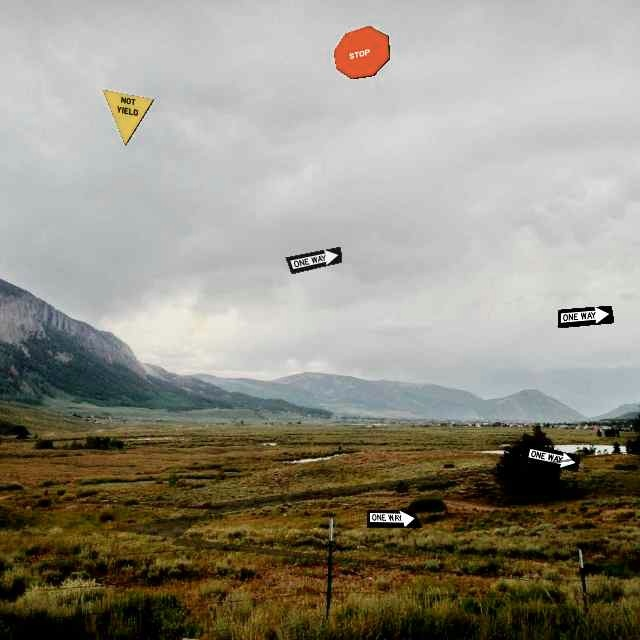NOT_YIELD: (102, 89, 154, 146)
ONE_WAY_ right: (285, 246, 342, 274), (524, 444, 581, 472), (557, 305, 614, 328), (366, 509, 423, 528)
STOP: (333, 25, 390, 79)
